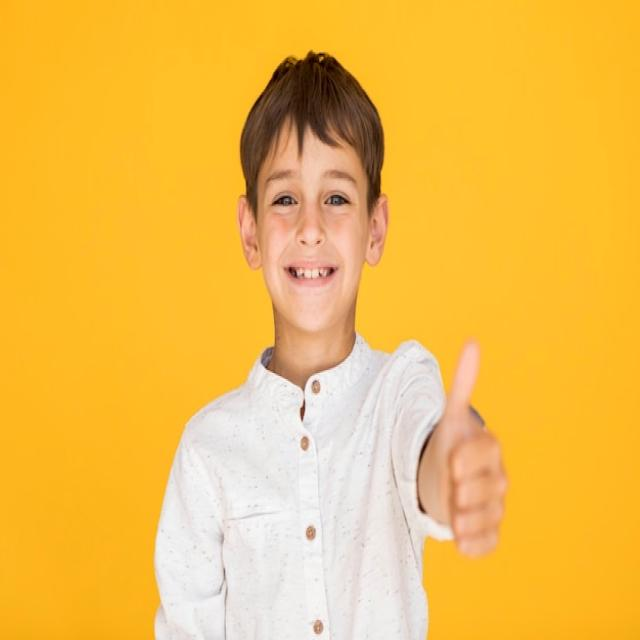child: (153, 47, 499, 640)
